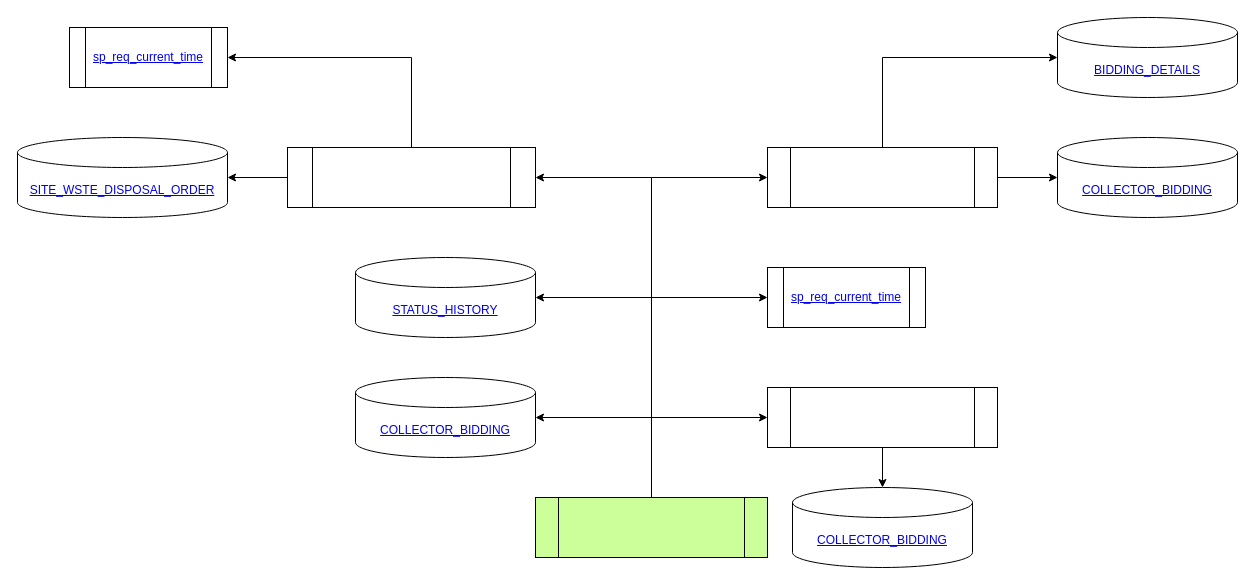
This 1255x585 diagram has some shape labels left out. Each missing label, with the centre of its shape:
sp_insert_bidding_information: the point at 651,527
sp_insert_collector_wste_lists: the point at 882,177
sp_req_bidding_end_date_expired: the point at 411,177
sp_req_collect_bidding_max_id: the point at 882,417
